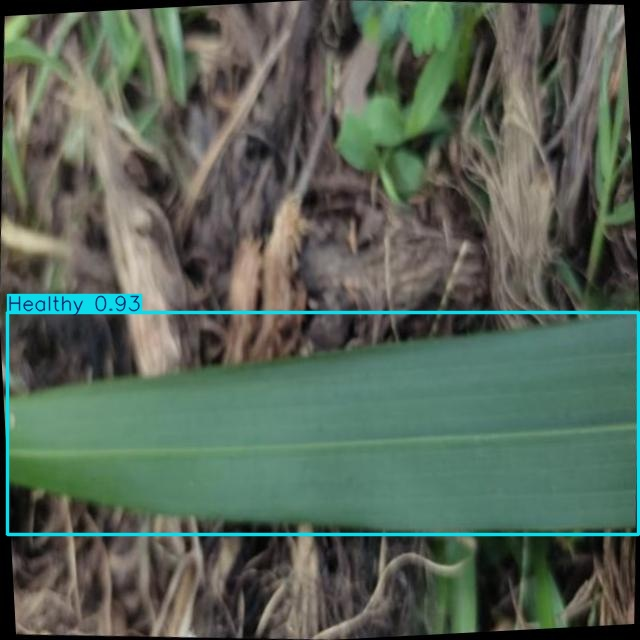Healthy: (8, 313, 638, 534)
